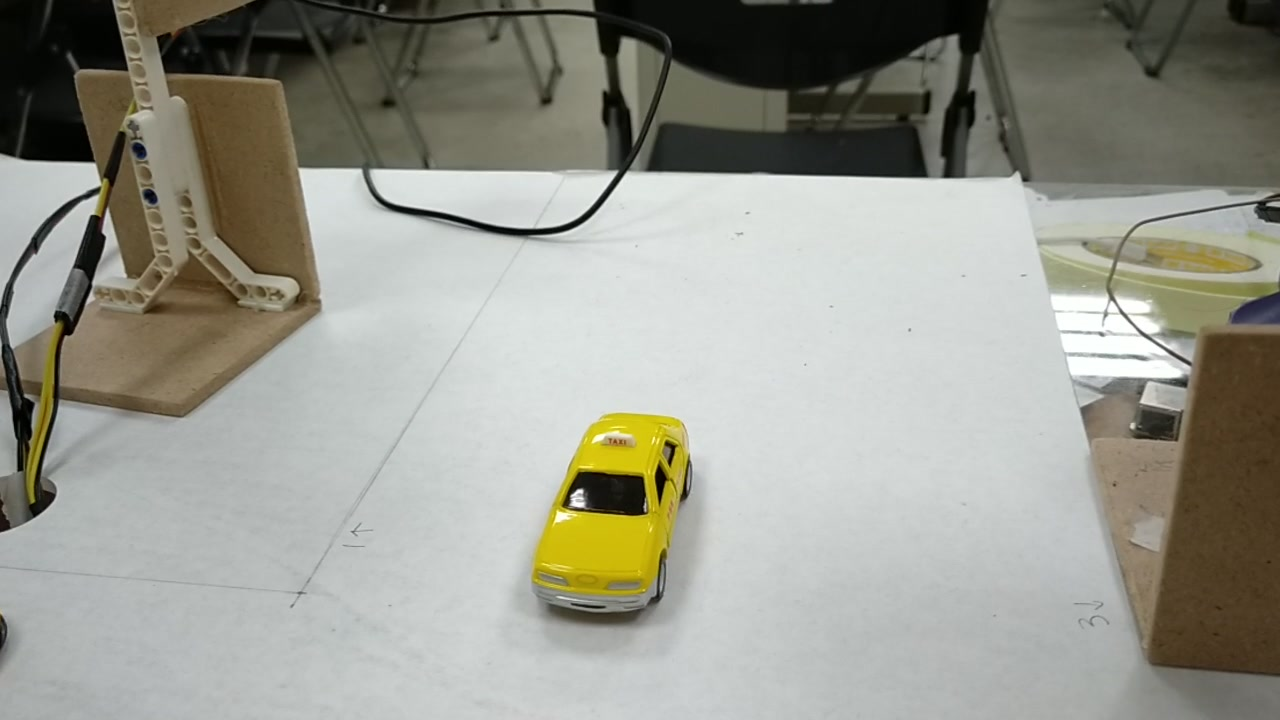car: (532, 416, 693, 608)
